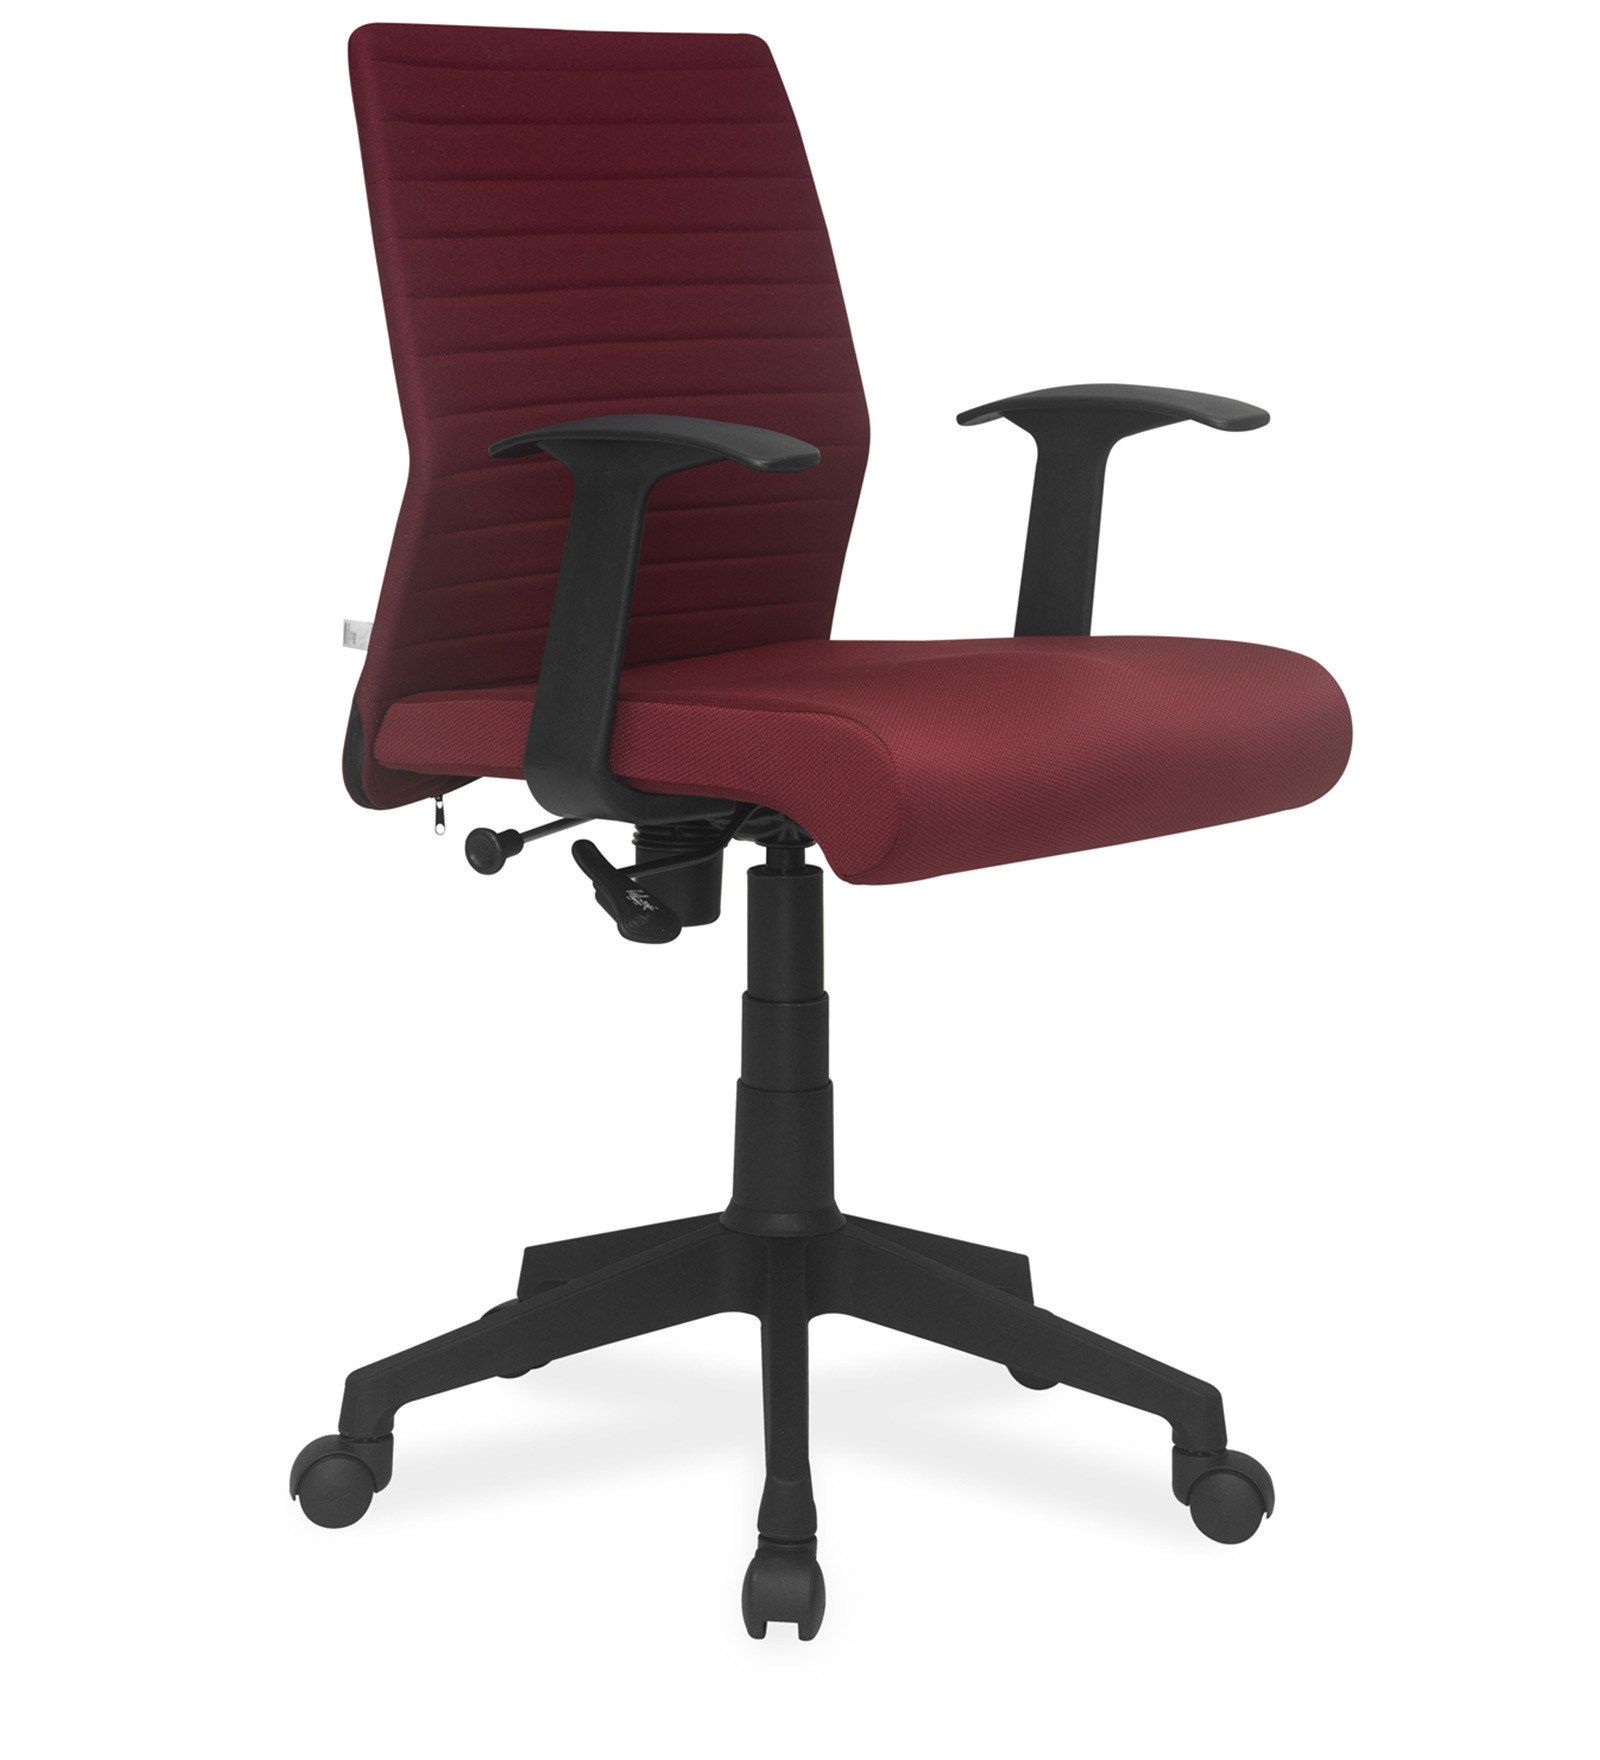Thames Low Back Ergonomic Chair in Maroon Colour by Nilkamal: (219, 11, 1418, 1696)
